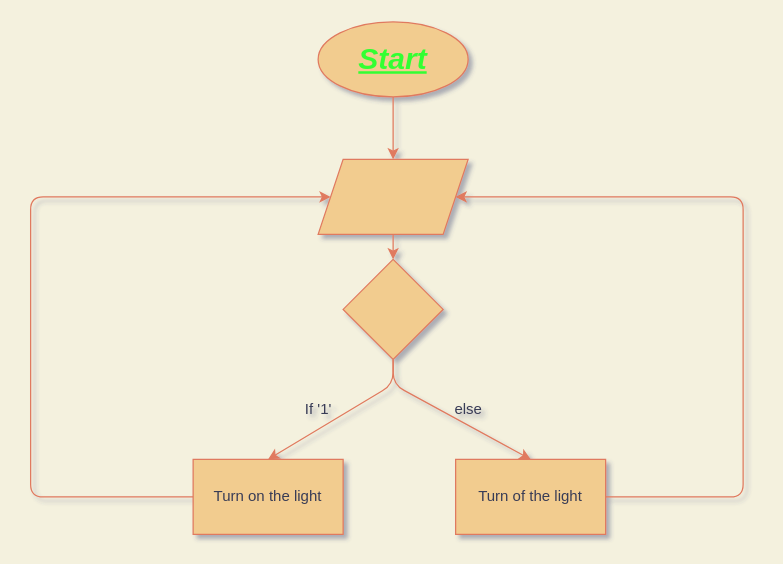
This 783x564 diagram has some shape labels left out. Each missing label, with the centre of its shape:
Input in IR remote: the point at 392,308
Receive command from IR remote: the point at 392,196
